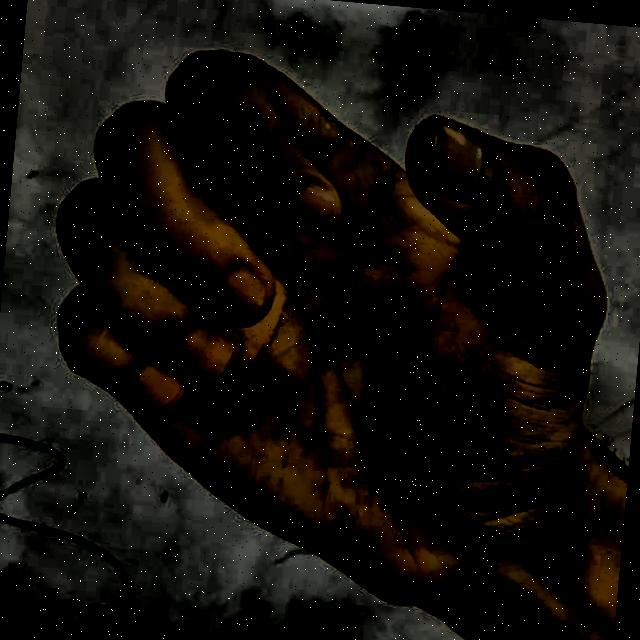Dho: (14, 22, 638, 630)
